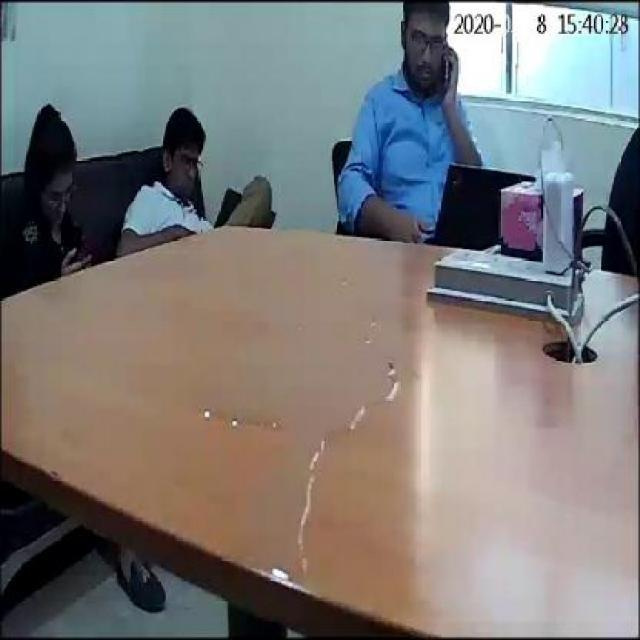spill: (187, 313, 407, 581)
